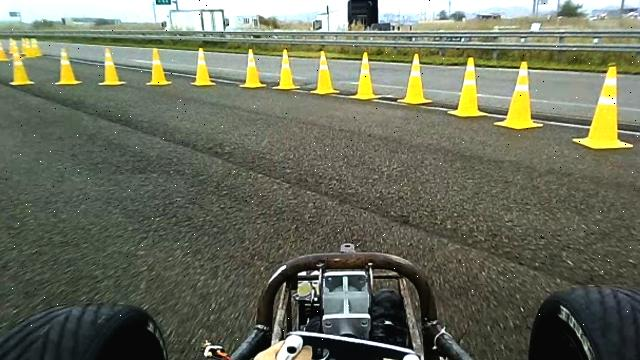yellow cone: (572, 62, 633, 150), (493, 60, 544, 130), (447, 56, 488, 118), (396, 53, 433, 105), (348, 51, 382, 100), (309, 49, 340, 95), (271, 48, 300, 90), (238, 48, 266, 88), (98, 47, 126, 86), (54, 47, 82, 85), (145, 47, 172, 86), (190, 47, 216, 86), (9, 48, 34, 86)
